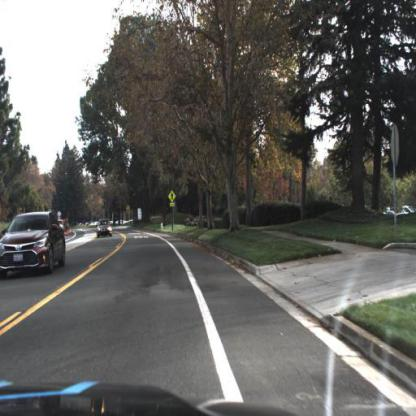car: (1, 210, 69, 280), (98, 219, 112, 241)
